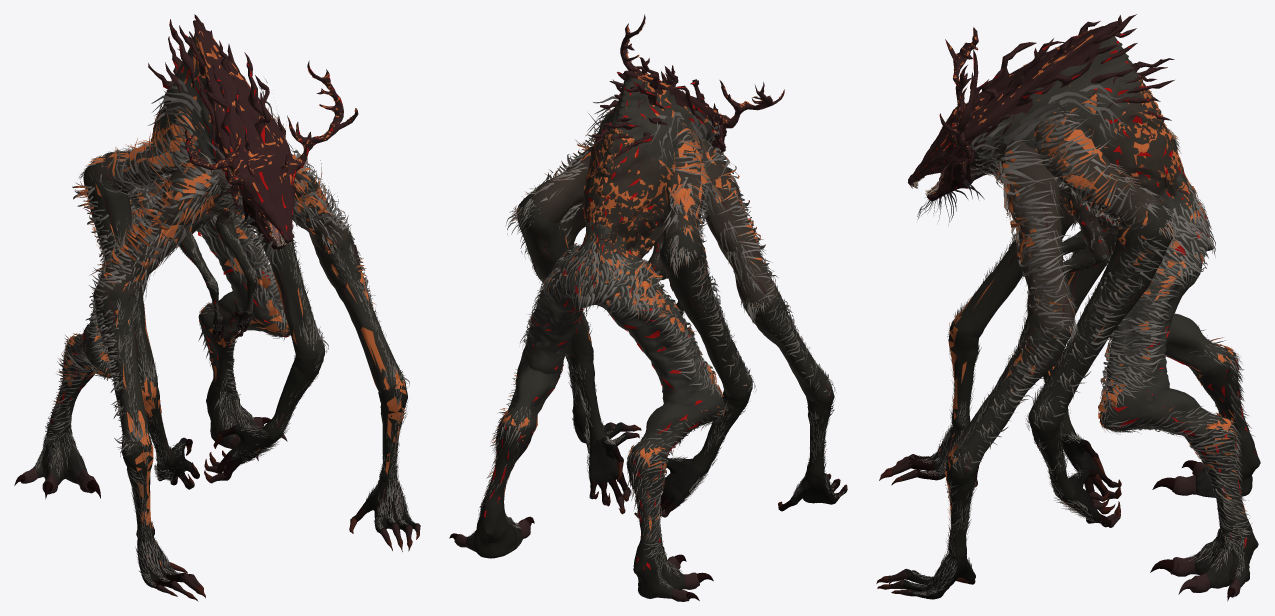
File: kaiju.glb
3 renders of one model, left to right at view 1: azimuth 30°, elevation 25°; view 2: azimuth 150°, elevation 25°; view 3: azimuth 270°, elevation 25°, orthographic. The views are drawn at different scales.
Visible parts, largest first — view 1: Object_29, Object_21, Object_39, Object_17, Object_25, Object_26, Object_44, Object_30, Object_28, Object_32, Object_35, Object_34 (+18 smaller); view 2: Object_34, Object_45, Object_39, Object_29, Object_44, Object_32, Object_35, Object_42, Object_15, Object_3, Object_20, Object_26 (+15 smaller); view 3: Object_34, Object_28, Object_39, Object_17, Object_30, Object_26, Object_3, Object_42, Object_25, Object_45, Object_44, Object_31 (+19 smaller).
Part boxes in pixels (<box>): Object_29: <box>72,108,409,529</box>; Object_21: <box>73,31,406,566</box>; Object_39: <box>83,157,325,400</box>; Object_17: <box>93,234,406,456</box>; Object_25: <box>193,20,298,243</box>; Object_26: <box>148,14,358,208</box>; Object_44: <box>123,278,407,543</box>; Object_30: <box>89,124,414,586</box>; Object_28: <box>135,79,351,582</box>; Object_32: <box>35,188,411,525</box>; Object_35: <box>94,156,227,300</box>; Object_34: <box>97,81,352,250</box>; Object_34: <box>531,129,706,257</box>; Object_45: <box>522,245,723,410</box>; Object_39: <box>517,192,752,399</box>; Object_29: <box>524,123,777,468</box>; Object_44: <box>565,300,834,477</box>; Object_32: <box>467,260,725,588</box>; Object_35: <box>701,139,779,306</box>; Object_42: <box>506,351,723,458</box>; Object_15: <box>484,412,666,544</box>; Object_3: <box>592,77,717,175</box>; Object_20: <box>513,128,825,453</box>; Object_26: <box>591,14,784,172</box>; Object_34: <box>999,78,1182,331</box>; Object_28: <box>931,84,1178,525</box>; Object_39: <box>1028,135,1176,430</box>; Object_17: <box>950,218,1074,475</box>; Object_30: <box>913,119,1208,595</box>; Object_26: <box>940,14,1174,184</box>; Object_3: <box>974,36,1142,203</box>; Object_42: <box>1099,313,1233,444</box>; Object_25: <box>908,21,1118,188</box>; Object_45: <box>1104,231,1202,405</box>; Object_44: <box>945,287,1076,559</box>; Object_31: <box>970,153,1254,568</box>.
Bounding box in the file's own units: 12.25 × 19.47 × 13.1.
